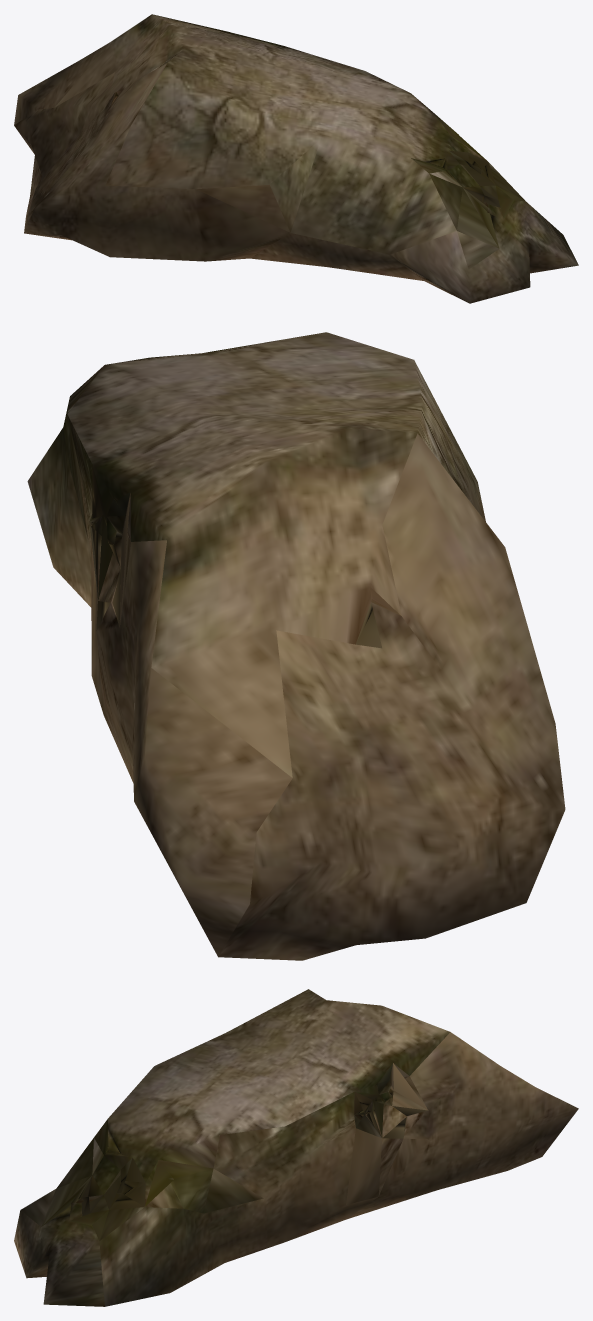
The model's file is SM_Stone_B.fbx.
3 views of the same model, one above another, from view 1: azimuth 30°, elevation 25°; view 2: azimuth 150°, elevation 25°; view 3: azimuth 270°, elevation 25° (orthographic). The views are drawn at different scales.
Visible parts, largest first — view 1: SM_Stone_B; view 2: SM_Stone_B; view 3: SM_Stone_B.
Part boxes in pixels (x1,y1,x2,y2): SM_Stone_B: (14,14,578,303); SM_Stone_B: (27,332,565,960); SM_Stone_B: (14,989,578,1306).
Bounding box in the file's own units: 0.2145 × 0.099 × 0.26.
